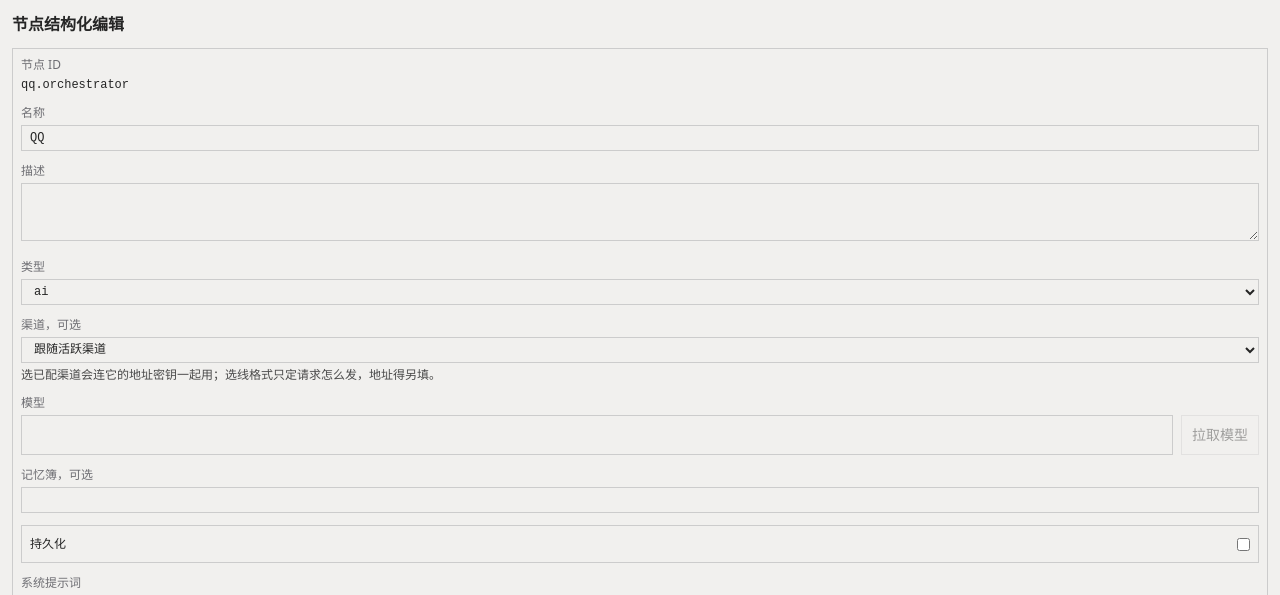
Scenario: 拉取模型 › 拉失败就把原因说出来，不清空已有候选
Select "openai" in the dropdown labelled "渠道" at (640, 350), box [21, 337, 1259, 363]
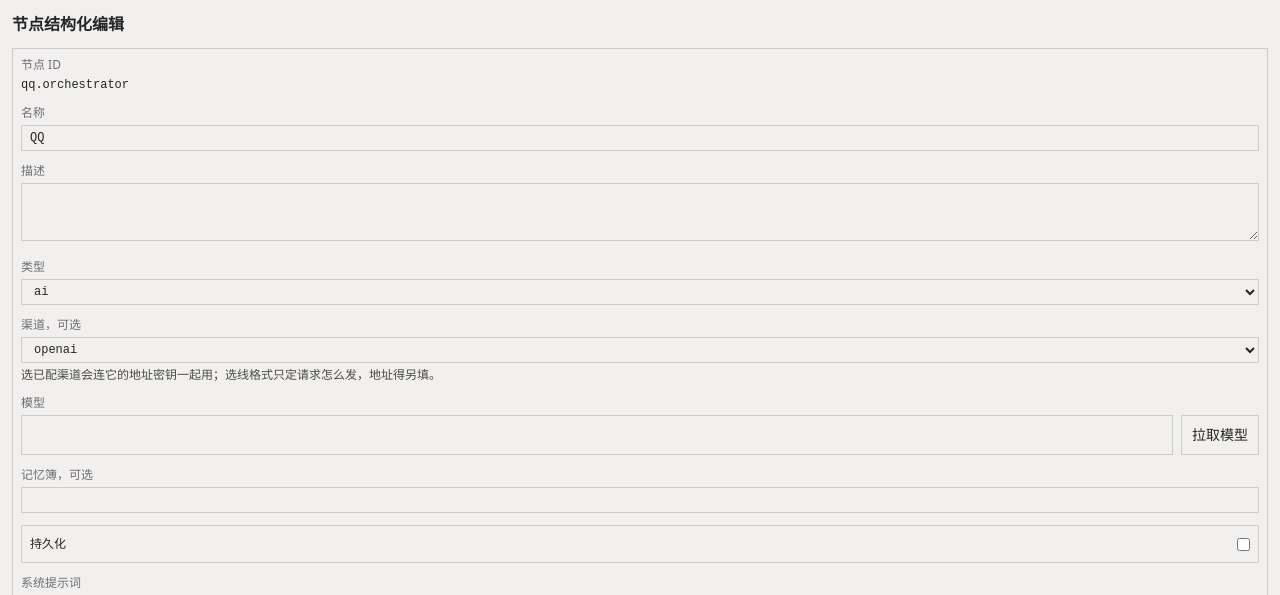
Click the button "拉取模型" at (1220, 435), box [1181, 415, 1259, 455]
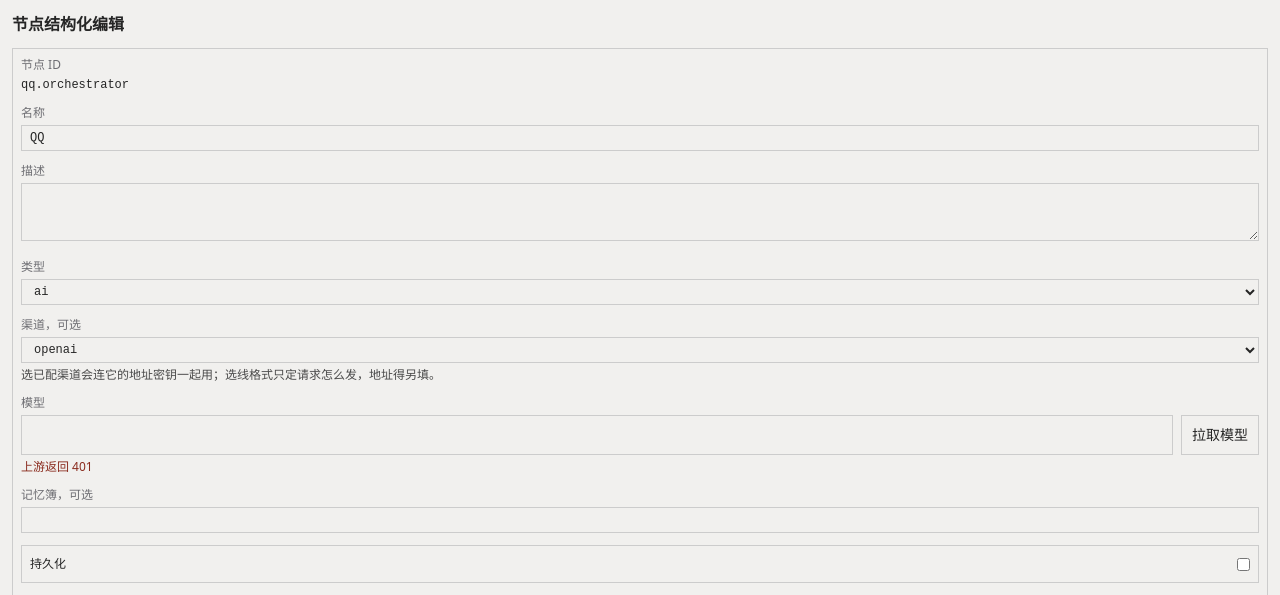
Expected: the text "上游返回 401" is shown, [21, 458, 93, 475]
